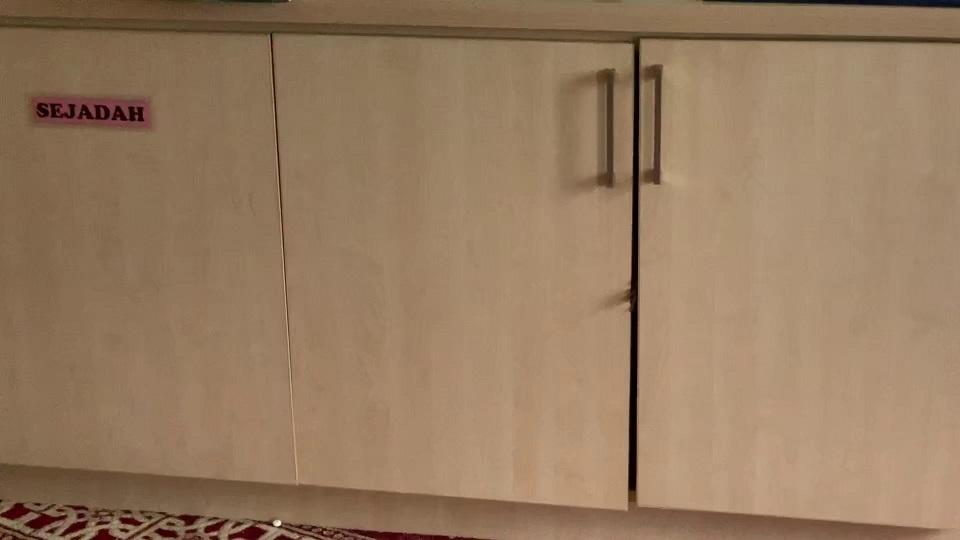cabinet_door: (287, 38, 635, 500), (640, 43, 960, 523), (0, 32, 274, 469)
handle: (582, 67, 626, 192), (640, 63, 681, 188)
